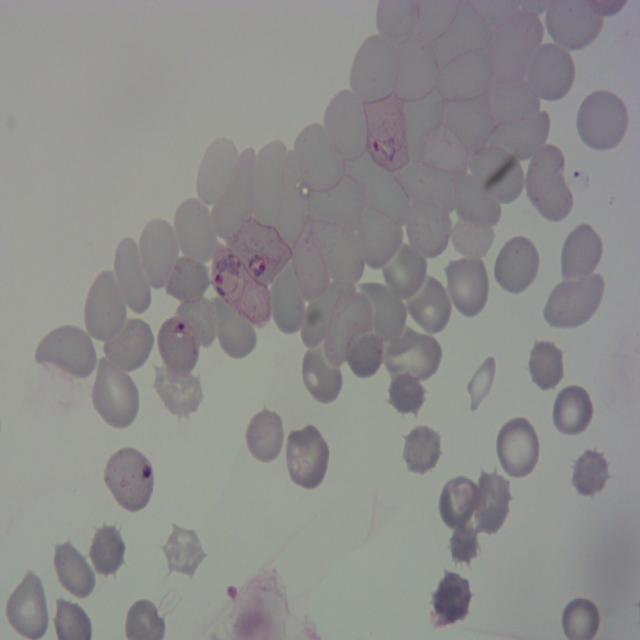leukocyte: (439, 75, 540, 154), (345, 152, 413, 228), (209, 147, 258, 241), (487, 9, 545, 84), (349, 32, 402, 108), (430, 3, 491, 68), (320, 86, 370, 163), (381, 324, 444, 383), (541, 271, 605, 329), (393, 158, 458, 215), (90, 356, 140, 430), (527, 145, 573, 223), (291, 123, 344, 190), (301, 283, 357, 346), (34, 324, 96, 380), (434, 47, 496, 103), (575, 89, 630, 152), (326, 290, 372, 365), (273, 150, 307, 251), (485, 109, 550, 161), (212, 290, 260, 360), (523, 39, 574, 104), (353, 201, 404, 266), (83, 273, 129, 344), (494, 414, 542, 482), (283, 422, 330, 490), (308, 176, 367, 230), (150, 359, 201, 421), (112, 239, 152, 318), (492, 232, 541, 296), (255, 136, 294, 215), (5, 572, 50, 640), (194, 136, 239, 204), (358, 284, 409, 344), (444, 253, 490, 319), (292, 218, 328, 302), (394, 35, 439, 102), (470, 148, 525, 202), (381, 238, 428, 301), (104, 315, 154, 374), (405, 273, 451, 337), (172, 198, 218, 262), (404, 194, 450, 258), (135, 218, 176, 288), (51, 539, 96, 602), (422, 124, 472, 179), (453, 171, 502, 227), (300, 344, 344, 405), (550, 382, 595, 440), (438, 474, 483, 532), (471, 470, 511, 535), (560, 220, 604, 278), (162, 524, 208, 578), (270, 269, 308, 334), (324, 225, 364, 286), (244, 406, 286, 464), (430, 571, 472, 628), (399, 421, 442, 474), (449, 211, 496, 259), (165, 254, 210, 304), (87, 522, 127, 578), (525, 337, 565, 392), (175, 296, 218, 347), (570, 449, 614, 498), (387, 367, 425, 416), (345, 332, 384, 378), (468, 356, 497, 411), (448, 518, 479, 564)
schizont: (210, 242, 271, 328), (225, 220, 293, 284), (363, 91, 410, 173)
